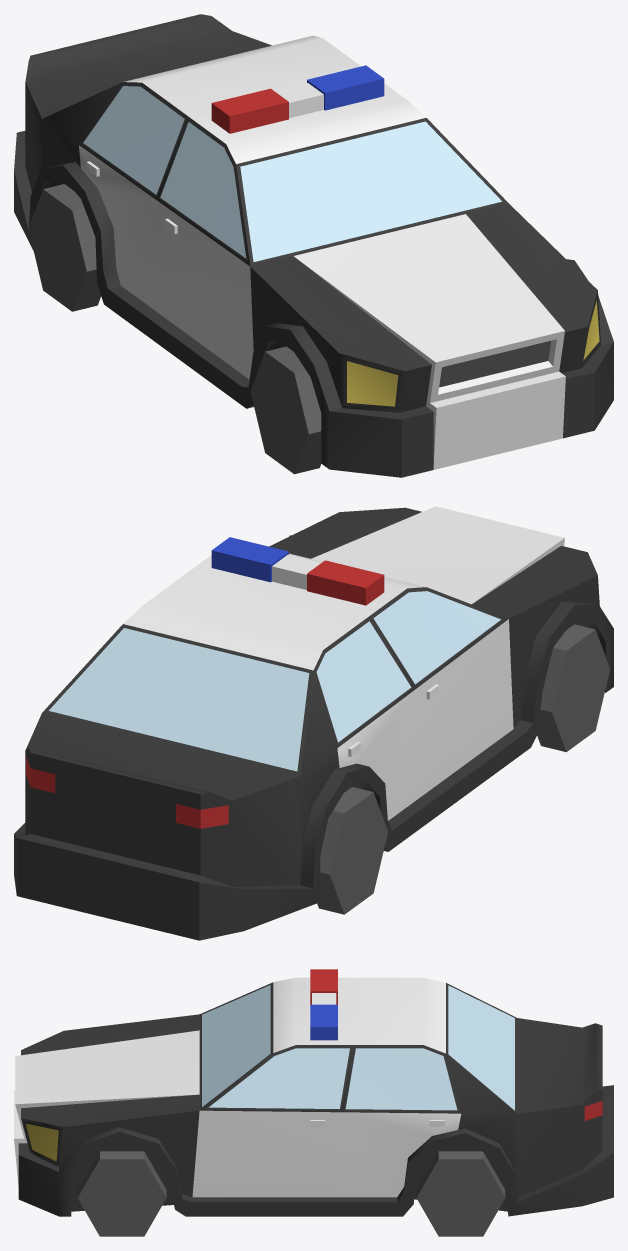
The model's file is police.glb.
The picture shows the model from 3 angles, top to bottom: view 1: azimuth 30°, elevation 25°; view 2: azimuth 150°, elevation 25°; view 3: azimuth 270°, elevation 25°; orthographic projection. The views are drawn at different scales.
Visible parts, largest first — view 1: Police_Mat_0; view 2: Police_Mat_0; view 3: Police_Mat_0.
Part boxes in pixels (x1,y1,x2,y2): Police_Mat_0: [14, 14, 613, 477]; Police_Mat_0: [14, 506, 613, 940]; Police_Mat_0: [14, 969, 613, 1236].
Bounding box in the file's own units: 3.21 × 2.43 × 7.25.
1 material, 1 textured.
